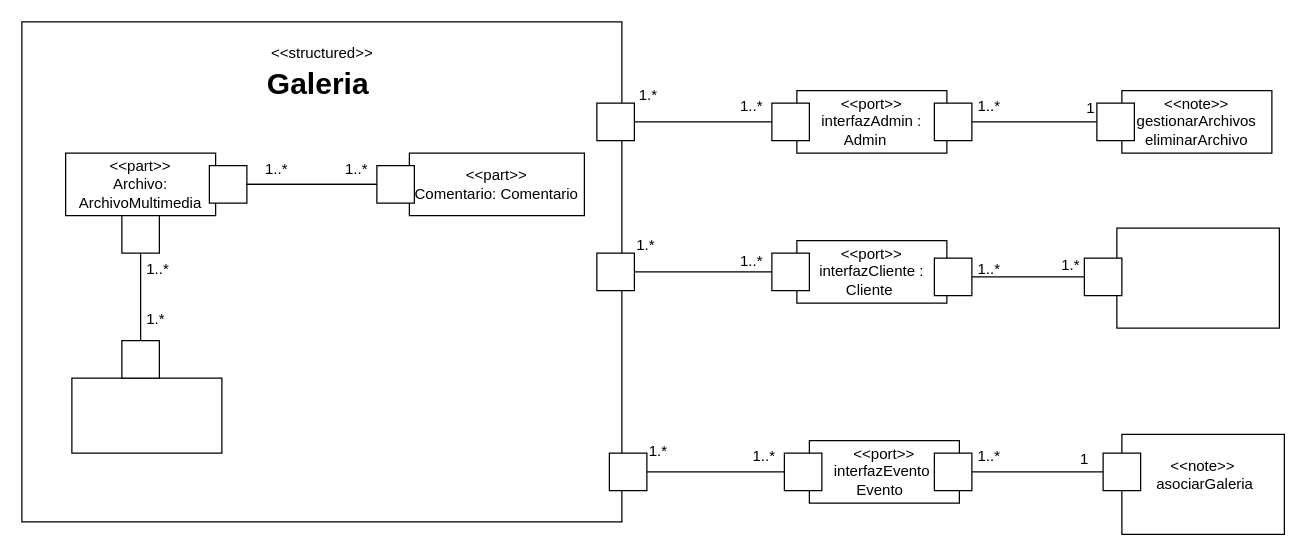
This 1306x556 diagram has some shape labels left out. The shapes that lost their labels are listed below. From the top down, each one's centre as x and y in pixels, then its label:
At pixel 1197 277: "<<note>> verGaleria agregarComentario".
At pixel 146 415: "<<part>> D escripcion: DescripcionGaleria".
